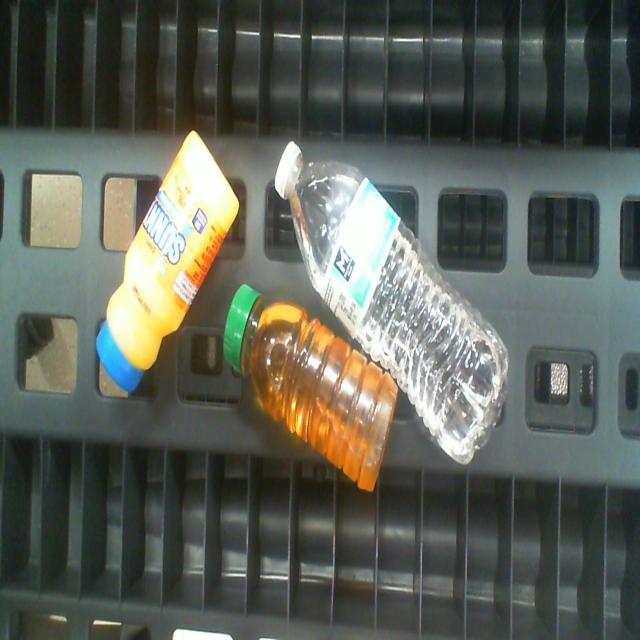drink: (95, 321, 142, 396), (224, 279, 260, 372), (272, 137, 302, 197)
